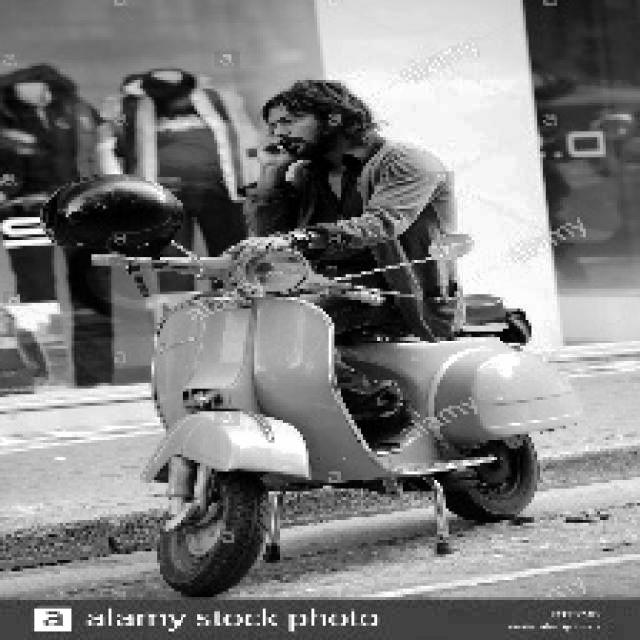Bike: (90, 252, 592, 596)
